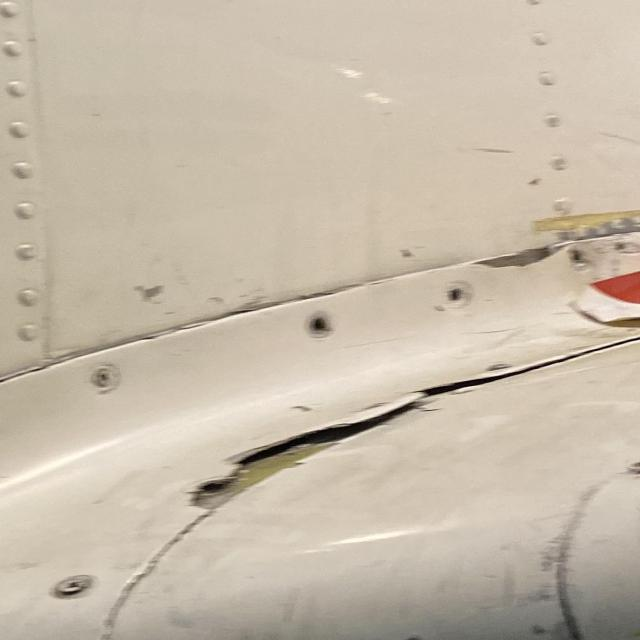Crack: (192, 381, 487, 510)
Missing-head: (309, 313, 335, 337), (449, 283, 474, 305)
Paint-off: (137, 284, 166, 301), (400, 249, 423, 260), (409, 638, 423, 640)
